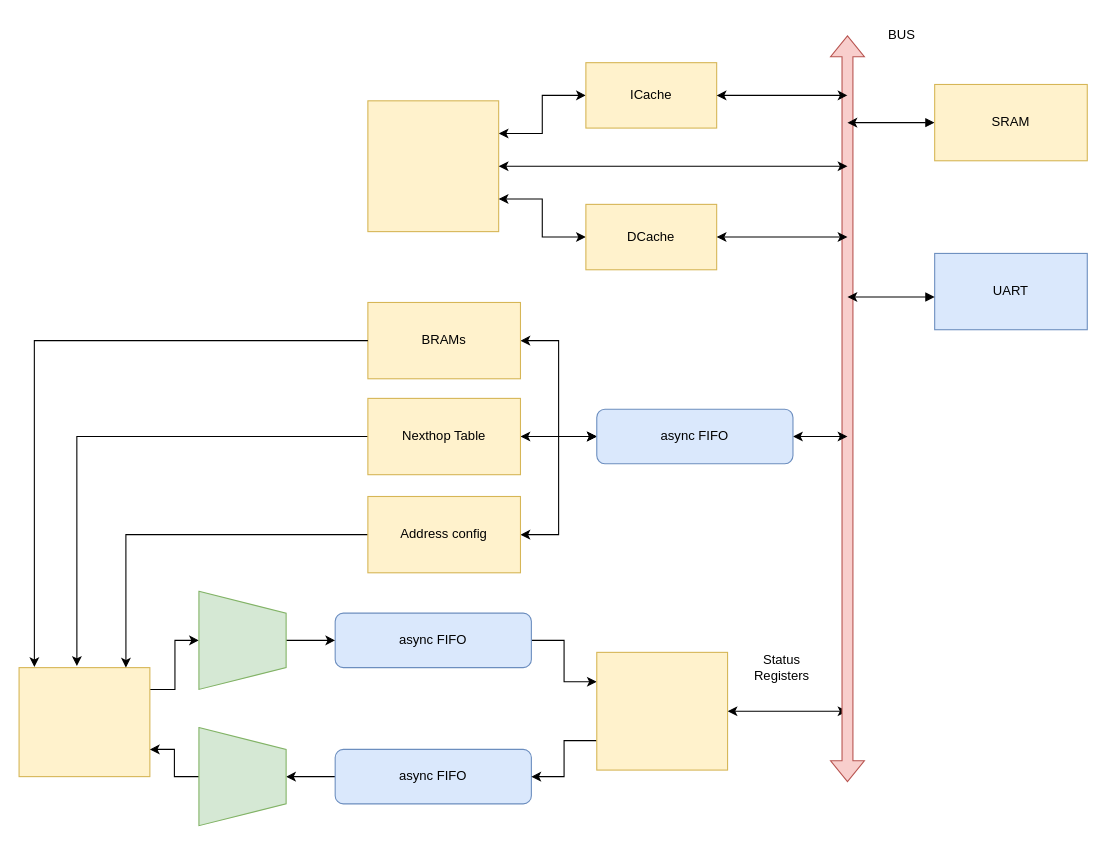
Some shapes in this 1106 by 845 pixel diagram are drawn without their labels. Each missing label, with the centre of its shape:
CPU @50MHz: pixel 433 166
DMA: pixel 662 710
Downsizer: pixel 242 639
Frame Datapath @125MHz: pixel 84 722
Upsizer: pixel 242 776
